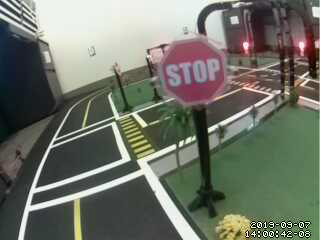Stop_Sign: (152, 31, 241, 113)
